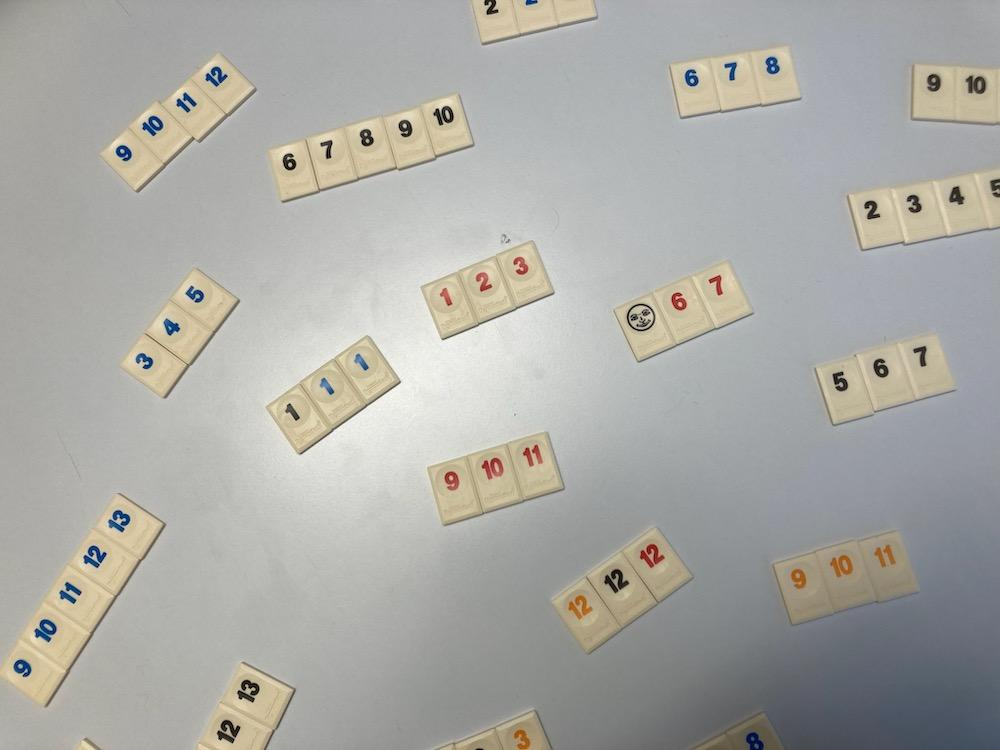black_1: (268, 385, 328, 453)
black_10: (420, 94, 473, 156), (955, 66, 996, 123)
black_12: (588, 553, 656, 627), (200, 703, 273, 750)
black_13: (223, 664, 293, 727)
black_2: (848, 189, 904, 250), (473, 0, 520, 45)
black_3: (891, 182, 945, 244)
black_4: (934, 174, 988, 236)
black_5: (816, 357, 873, 424), (976, 169, 1000, 229)
black_6: (858, 344, 914, 410), (270, 141, 318, 201)
black_7: (899, 334, 955, 398), (307, 129, 357, 189)
black_8: (344, 117, 395, 178)
black_9: (384, 107, 436, 170), (912, 64, 955, 121)
blue_1: (338, 336, 398, 402), (303, 361, 361, 428)
blue_10: (21, 604, 90, 670), (129, 102, 191, 162)
blue_11: (47, 566, 113, 631), (162, 80, 225, 141)
blue_12: (70, 531, 139, 594), (191, 53, 256, 113)
blue_13: (94, 494, 164, 559)
blue_2: (514, 0, 559, 35)
blue_3: (121, 336, 188, 396)
blue_4: (146, 301, 213, 363)
blue_5: (172, 268, 238, 330)
blue_6: (671, 59, 721, 117)
blue_7: (711, 53, 759, 110)
blue_8: (750, 46, 801, 104), (727, 713, 783, 750)
blue_9: (100, 129, 164, 191)
joker: (615, 293, 674, 361)
orange_10: (817, 541, 875, 611)
orange_11: (859, 531, 920, 602)
orange_12: (553, 578, 621, 654)
orange_3: (496, 711, 551, 750)
orange_9: (773, 553, 834, 625)
red_1: (422, 273, 477, 338)
red_10: (470, 445, 523, 512)
red_11: (508, 432, 564, 500)
red_12: (623, 527, 691, 602)
red_2: (459, 258, 514, 322)
red_3: (496, 242, 553, 307)
red_6: (655, 277, 713, 344)
red_7: (695, 262, 752, 328)
red_9: (429, 457, 482, 525)
